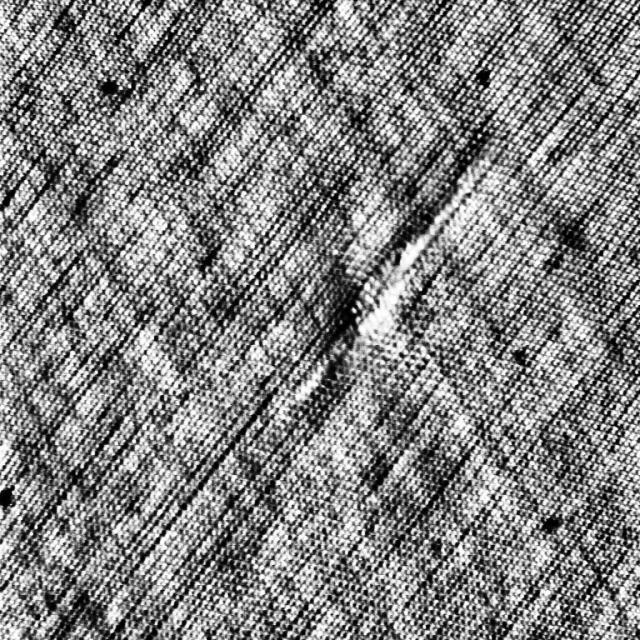gray stitch: (335, 191, 456, 364)
